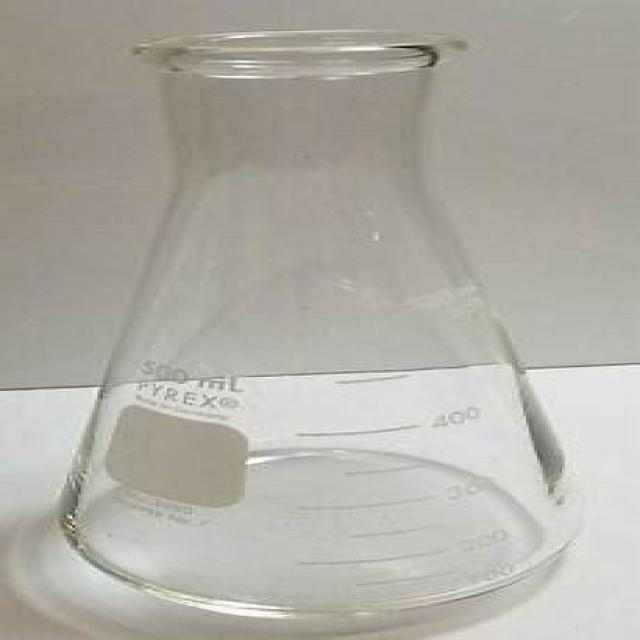Titrarion: (54, 23, 589, 620)
